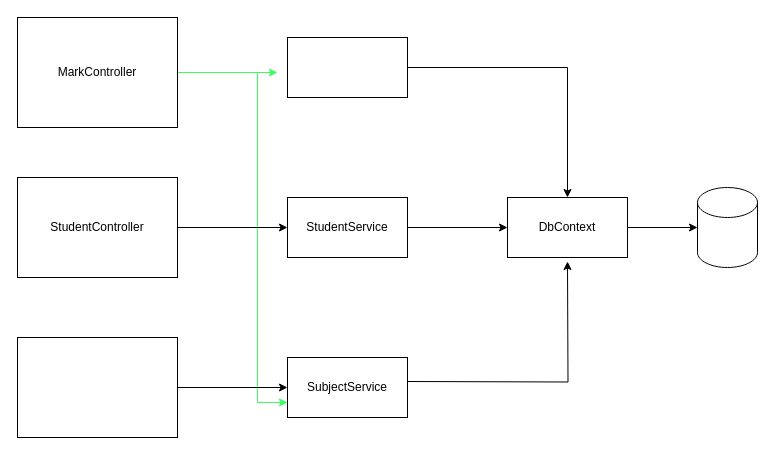
Some shapes in this 775 by 455 pixel diagram are drawn without their labels. Here are the shapes that lost their labels. From the top down, the centre of each, then its label:
At point (347, 67): "MarkService".
At point (727, 227): "Db".
At point (97, 387): "SubjectController".
